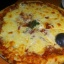basil: (23, 18, 43, 29)
pizza: (1, 1, 63, 64)
